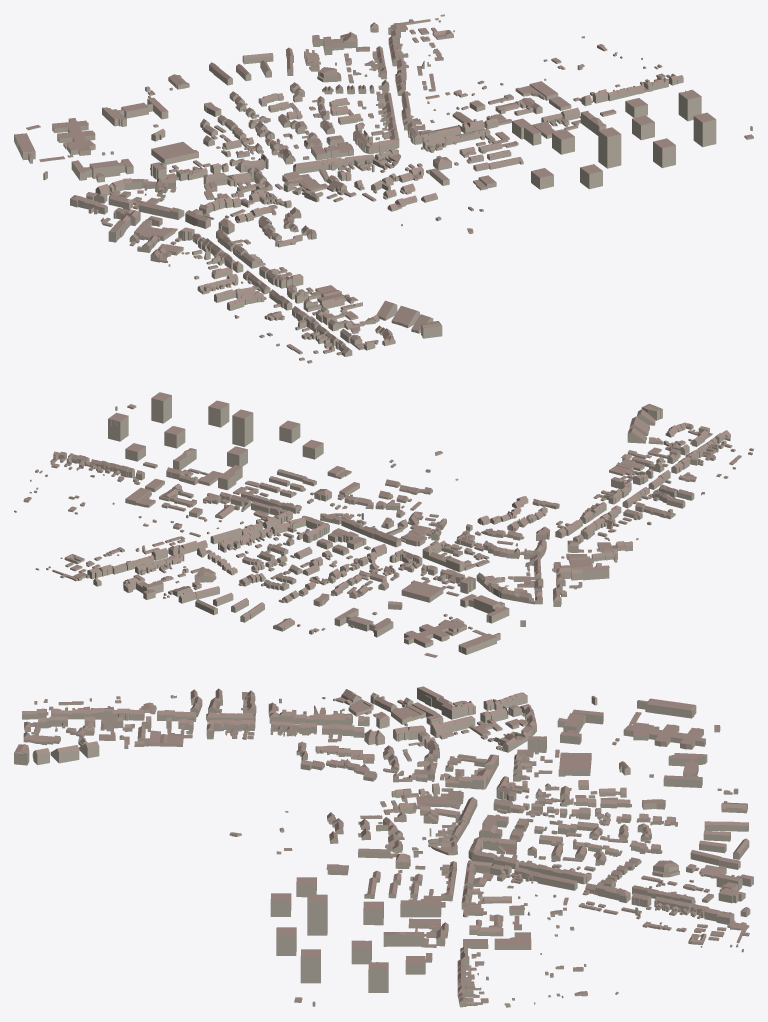
3 views of the same model, one above another, from view 1: azimuth 30°, elevation 25°; view 2: azimuth 150°, elevation 25°; view 3: azimuth 270°, elevation 25° (orthographic). The views are drawn at different scales.
Visible parts, largest first — view 1: LoD2_32_322_5669_1_NW; view 2: LoD2_32_322_5669_1_NW; view 3: LoD2_32_322_5669_1_NW.
Boxes of the visible parts, bbox=[...] form: LoD2_32_322_5669_1_NW: bbox=[14, 14, 753, 363]; LoD2_32_322_5669_1_NW: bbox=[14, 392, 753, 657]; LoD2_32_322_5669_1_NW: bbox=[14, 686, 753, 1007].
Bounding box in the file's own units: 1022 × 58.29 × 1019.
